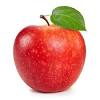apple: (12, 23, 87, 94)
